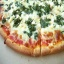pesto: (23, 17, 39, 41), (31, 1, 54, 14), (36, 13, 54, 29), (18, 3, 35, 14)
pizza: (1, 1, 63, 57)
